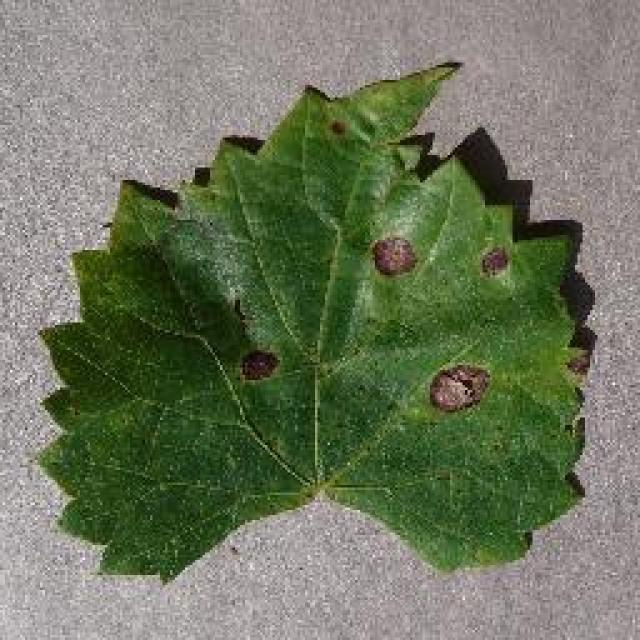Grape___Black_rot: (29, 60, 593, 592)
